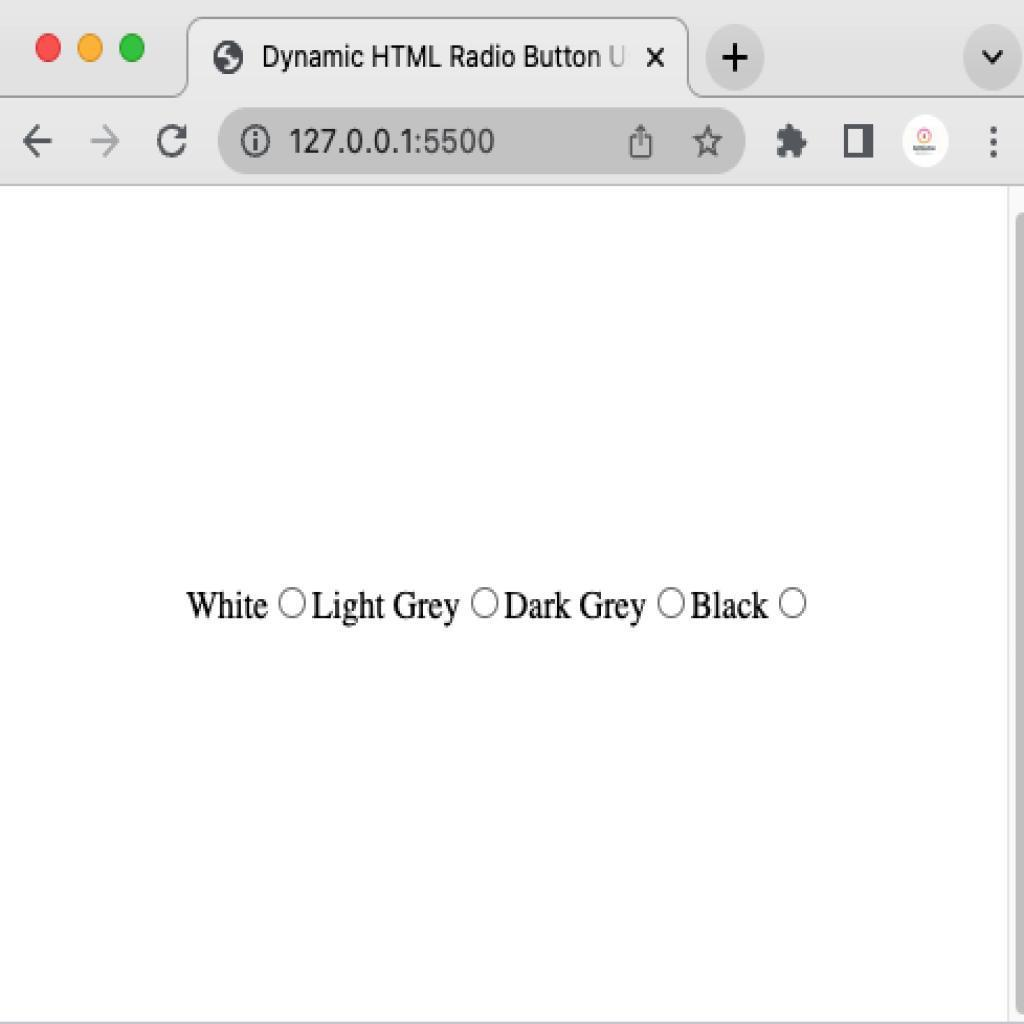label: (316, 586, 461, 627), (507, 588, 645, 629), (184, 590, 271, 626), (692, 588, 770, 627)
radio: (277, 583, 310, 621), (775, 585, 809, 619), (471, 586, 501, 623), (658, 586, 688, 622)
